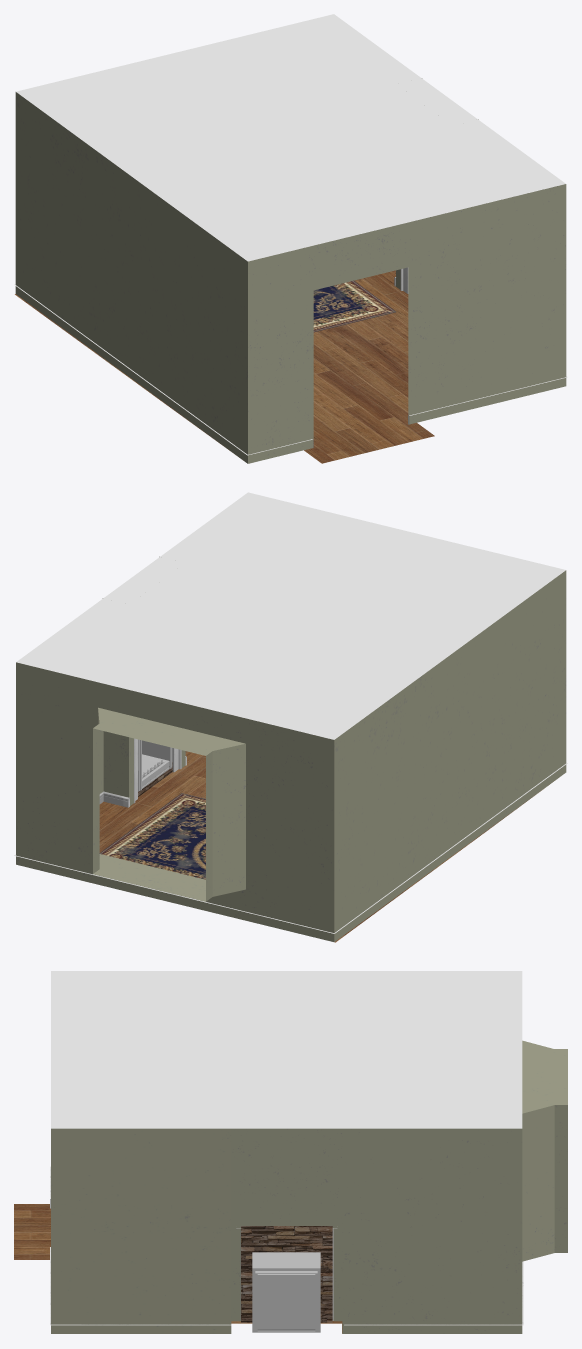
The picture shows the model from 3 angles, top to bottom: view 1: azimuth 30°, elevation 25°; view 2: azimuth 150°, elevation 25°; view 3: azimuth 270°, elevation 25°; orthographic projection.
Parts seen in each view (by area): view 1: 墙面, 对象003, 地板, 地毯, 踢脚线; view 2: 墙面, 对象003, 地毯, 地板, 对象010, 踢脚线; view 3: 墙面, 对象003, 对象010, Antique rock, 地板, 踢脚线.
Part boxes in pixels (bbox=[...]): 墙面: bbox=[15, 78, 566, 463]; 对象003: bbox=[16, 14, 565, 261]; 地板: bbox=[15, 270, 434, 463]; 地毯: bbox=[313, 280, 395, 332]; 踢脚线: bbox=[14, 277, 567, 455]; 墙面: bbox=[16, 556, 566, 941]; 对象003: bbox=[16, 492, 565, 739]; 地毯: bbox=[99, 793, 205, 879]; 地板: bbox=[99, 751, 549, 942]; 对象010: bbox=[138, 739, 172, 791]; 踢脚线: bbox=[14, 756, 567, 933]; 墙面: bbox=[51, 1040, 567, 1333]; 对象003: bbox=[51, 971, 522, 1128]; 对象010: bbox=[252, 1252, 320, 1332]; Antique rock: bbox=[241, 1226, 332, 1322]; 地板: bbox=[14, 1204, 342, 1333]; 踢脚线: bbox=[50, 1166, 523, 1325].
Bounding box in the file's own units: 4606 × 2710 × 6611.
